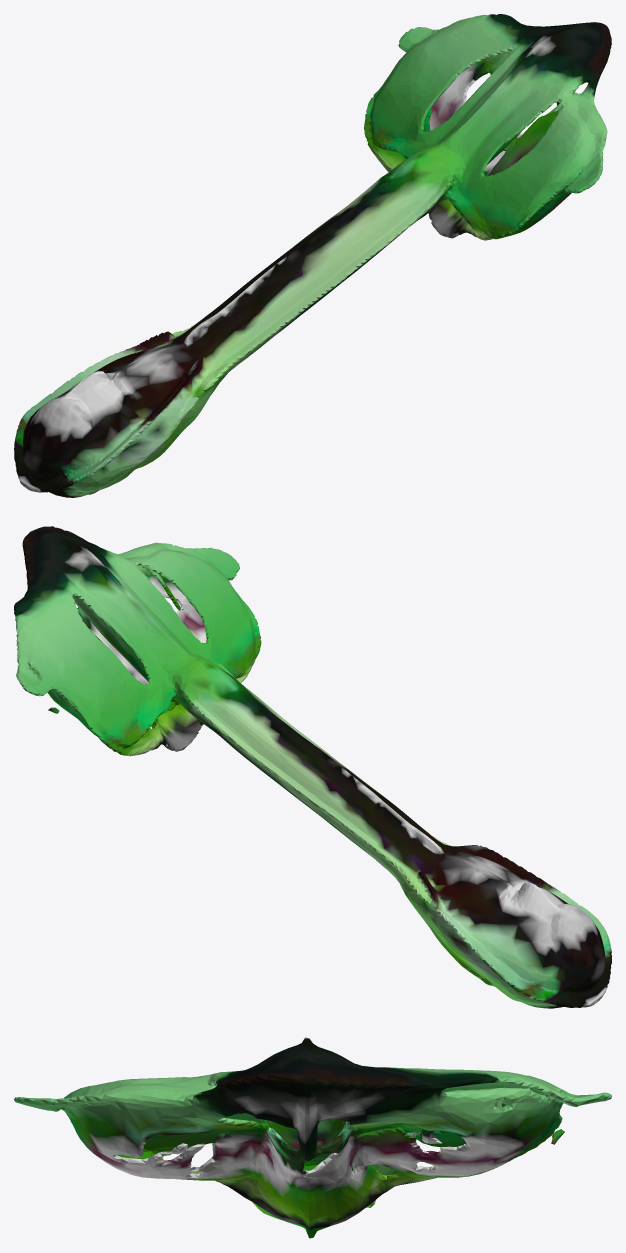
File: trident.glb
3 views of the same model, one above another, from view 1: azimuth 30°, elevation 25°; view 2: azimuth 150°, elevation 25°; view 3: azimuth 270°, elevation 25° (orthographic). The views are drawn at different scales.
Visible parts, largest first — view 1: geometry_0; view 2: geometry_0; view 3: geometry_0.
Part boxes in pixels (left/top/right/bottom): geometry_0: left=14, top=14, right=611, bottom=497; geometry_0: left=14, top=526, right=611, bottom=1008; geometry_0: left=14, top=1037, right=611, bottom=1238.
Size of the model in its own units: 0.8125 by 0.4736 by 0.4779.
